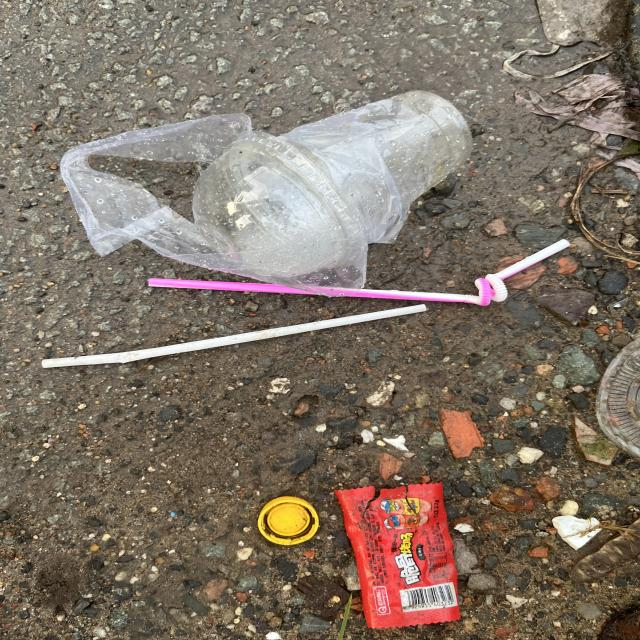drinking straw: (148, 239, 571, 306), (41, 305, 426, 367)
lid: (258, 496, 319, 546)
packet: (336, 482, 461, 630)
plastic glass: (190, 90, 472, 278)
